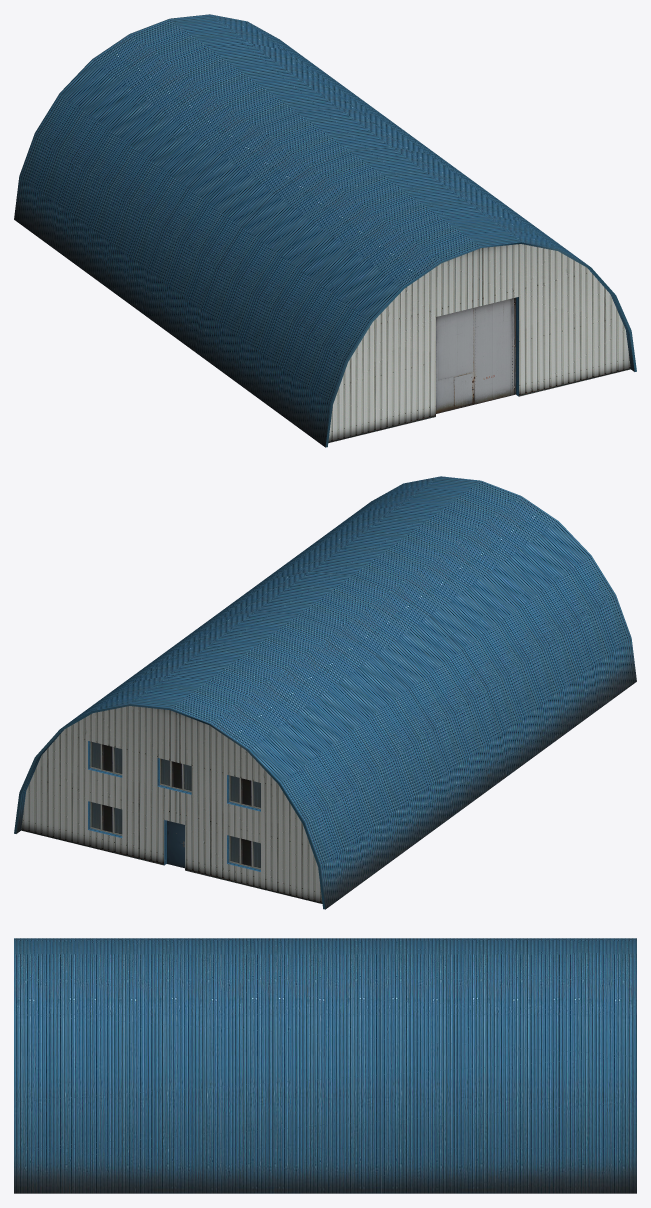
Rendered from hangar.obj.
3 views of the same model, one above another, from view 1: azimuth 30°, elevation 25°; view 2: azimuth 150°, elevation 25°; view 3: azimuth 270°, elevation 25° (orthographic).
Parts seen in each view (by area): view 1: HANGAR:Cylinder001; view 2: HANGAR:Cylinder001; view 3: HANGAR:Cylinder001.
Boxes of the visible parts, x1,y1,x2,y2 form: HANGAR:Cylinder001: (14, 14, 636, 447); HANGAR:Cylinder001: (14, 476, 636, 909); HANGAR:Cylinder001: (14, 938, 636, 1193).
Size of the model in its own units: 21.68 by 10.84 by 37.57.
Materials: 1 (1 with a texture image).
